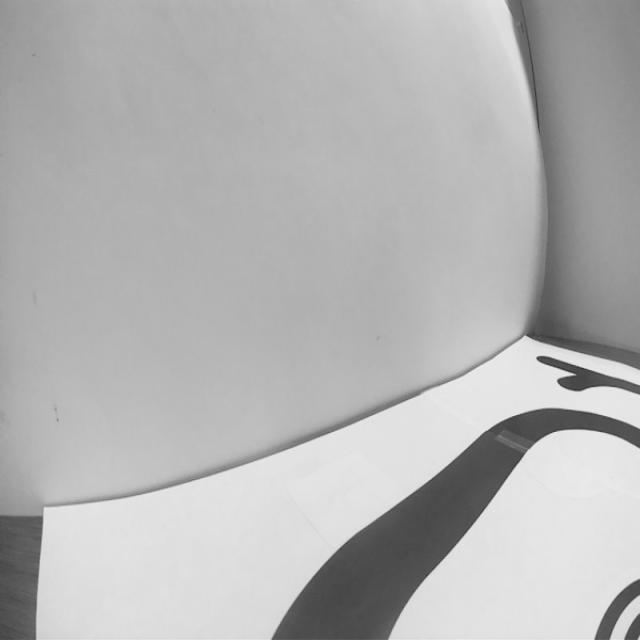laneRightTurn: (249, 497, 466, 640)
